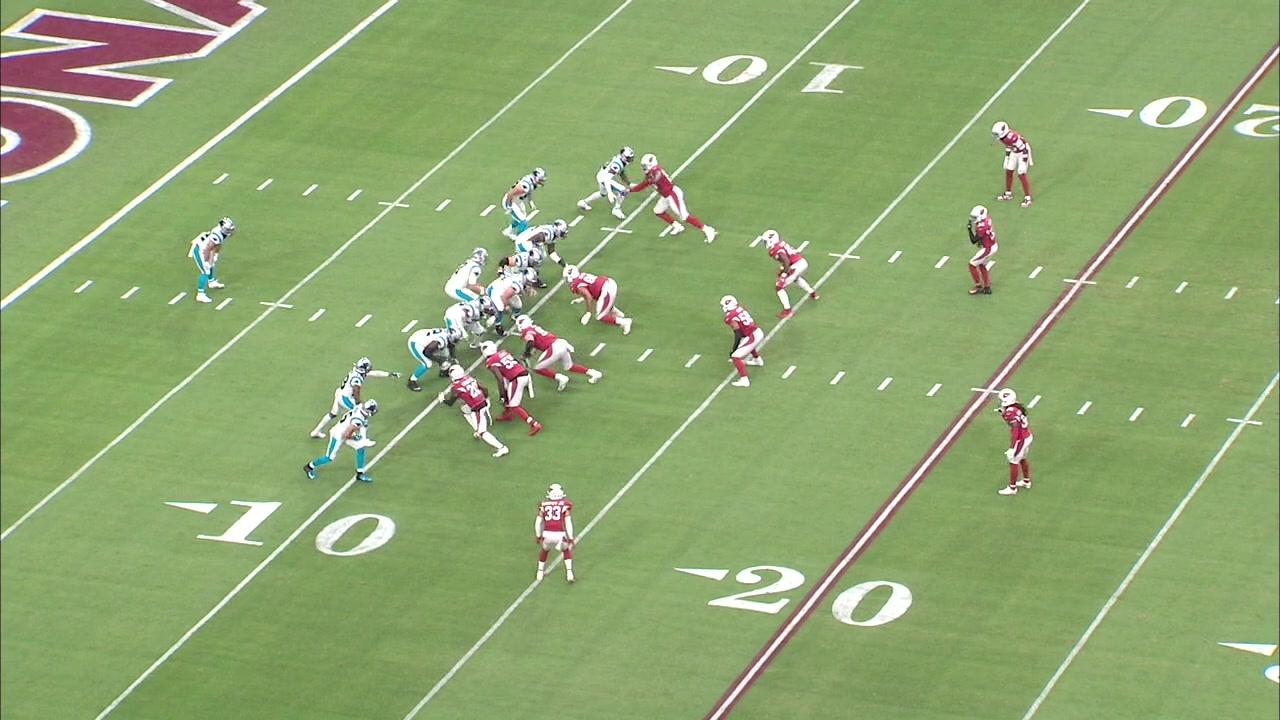player: (616, 153, 717, 246), (308, 353, 404, 449), (503, 314, 602, 392), (436, 361, 511, 461), (303, 398, 381, 484), (478, 339, 545, 438), (559, 263, 635, 337), (760, 228, 819, 321), (530, 481, 580, 586), (576, 145, 640, 222), (991, 387, 1033, 497), (718, 292, 765, 390), (186, 215, 236, 305), (512, 217, 571, 290), (443, 245, 490, 335), (989, 119, 1035, 210), (405, 325, 464, 394), (484, 267, 539, 339), (500, 165, 549, 242), (496, 246, 545, 317), (964, 203, 1000, 298), (443, 295, 495, 350)
